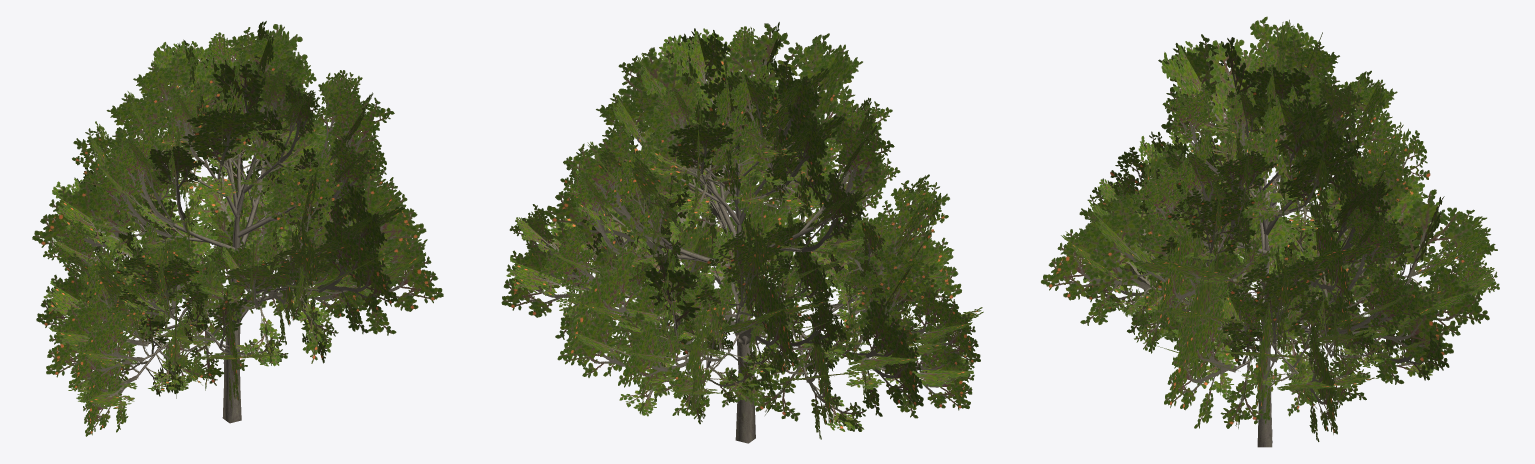
The model's file is PrunusArmeniaca.glb.
3 views of the same model, side by side, from view 1: azimuth 30°, elevation 25°; view 2: azimuth 150°, elevation 25°; view 3: azimuth 270°, elevation 25° (orthographic). The views are drawn at different scales.
Visible parts, largest first — view 1: Apricot__Realistic_LOD3; view 2: Apricot__Realistic_LOD3; view 3: Apricot__Realistic_LOD3.
Boxes of the visible parts, left/top/right/bottom form: Apricot__Realistic_LOD3: left=32, top=21, right=443, bottom=436; Apricot__Realistic_LOD3: left=501, top=22, right=983, bottom=443; Apricot__Realistic_LOD3: left=1041, top=16, right=1499, bottom=447.
Bounding box in the file's own units: 10.13 × 9.41 × 10.06.
1 material, 1 textured.
